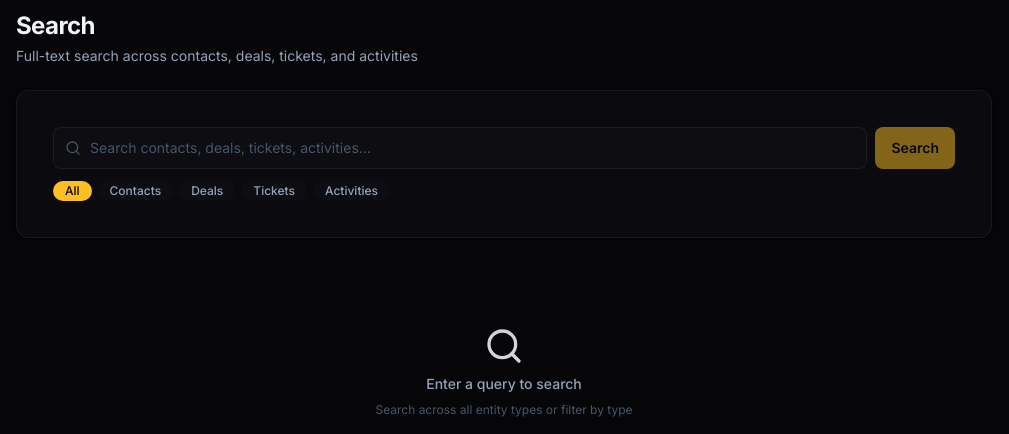
Test: Search page › shows no-results state when empty
The image size is (1009, 434).
In the search field: coordinates (460, 148) [53,127,868,169], type "xyz-no-match"
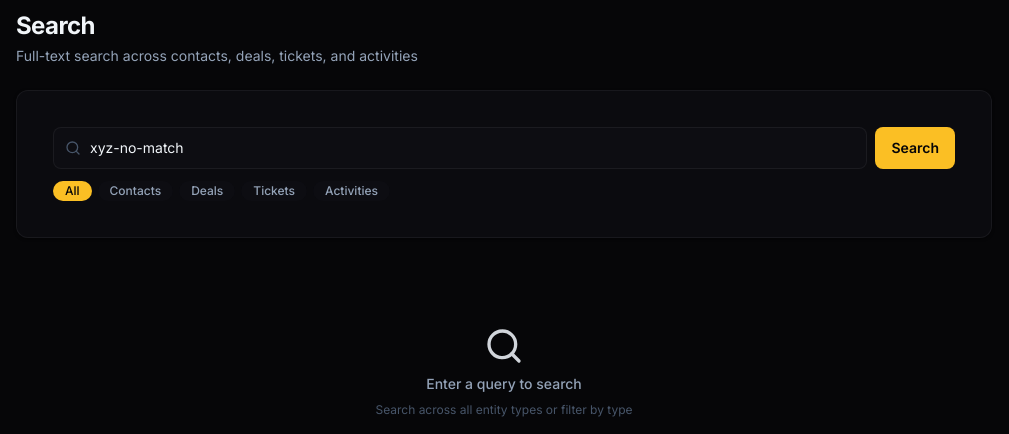
Click the button "Search": coordinates (915, 148) [876,127,955,169]
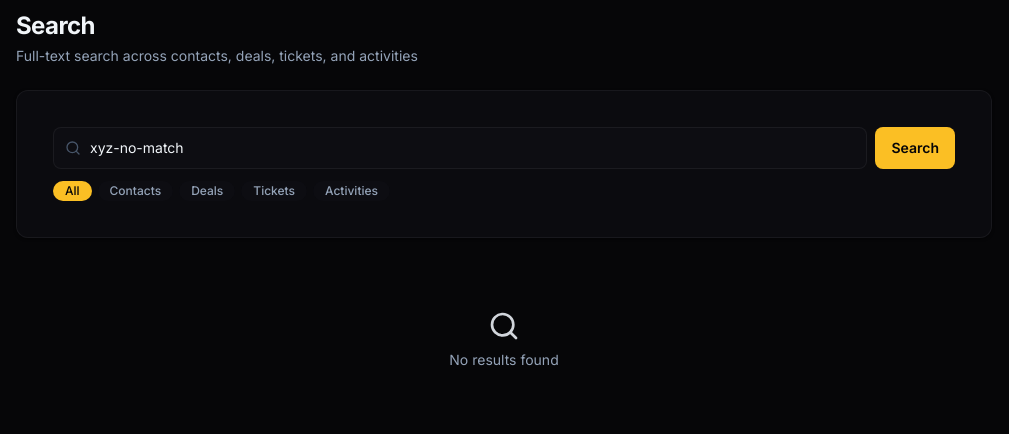
Check: the text "No results found" is shown, box [449,350,559,370]
